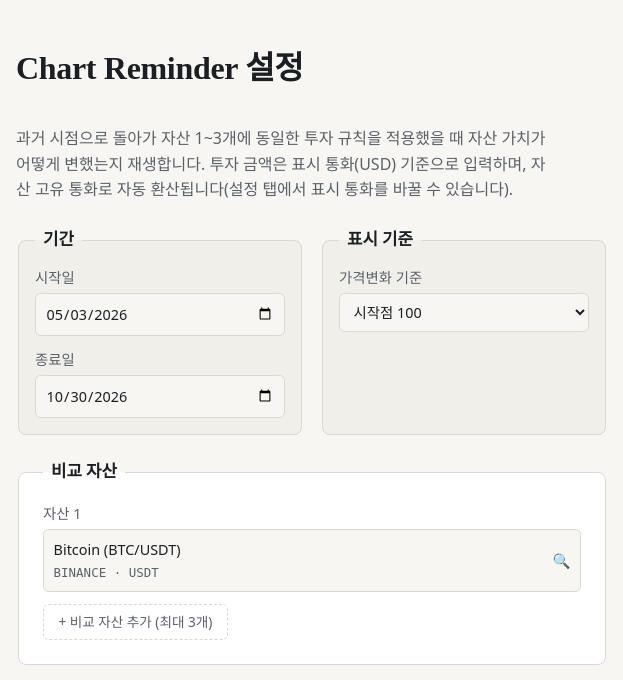
Test: SessionSetupForm › 자산을 추가하면 2번째, 3번째 자산 선택이 나타나고, 3개가 되면 추가 버튼이 사라진다
This screenshot has width=623, height=680.
Expected: the field labelled "자산 2" is not shown
Click the button "+ 비교 자산 추가 (최대 3개)": (135, 622) [43,604,228,640]
(page scrolled)
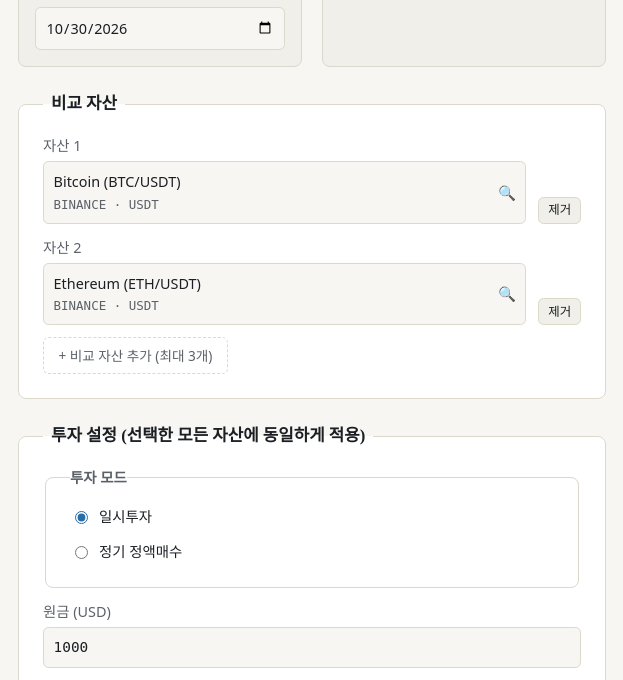
Now the button with aria-label "자산 2" is shown, box [43,263,526,325]
Click the button "+ 비교 자산 추가 (최대 3개)": (135, 355) [43,337,228,374]
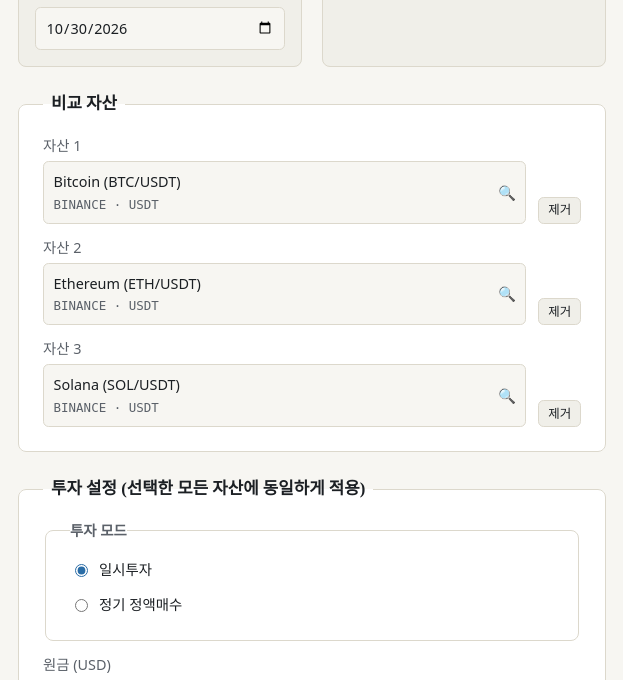
Now the button with aria-label "자산 3" is shown, box [43,364,526,427]
Now the button "비교 자산 추가" is gone
